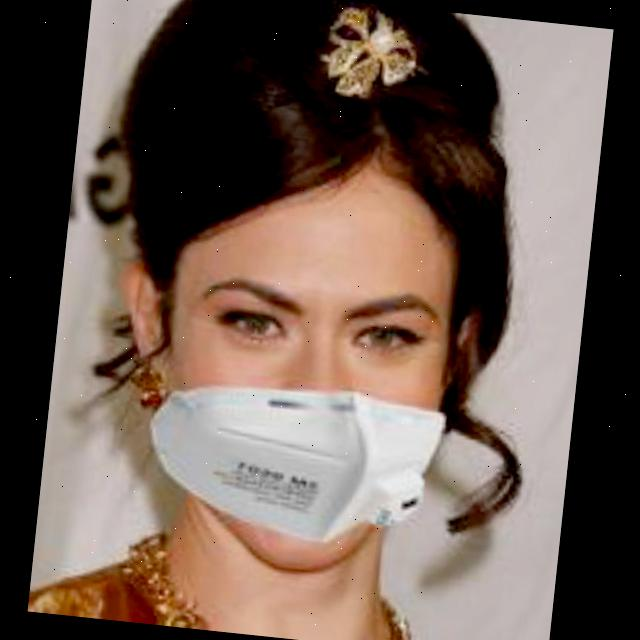suspicion: (69, 124, 494, 548)
